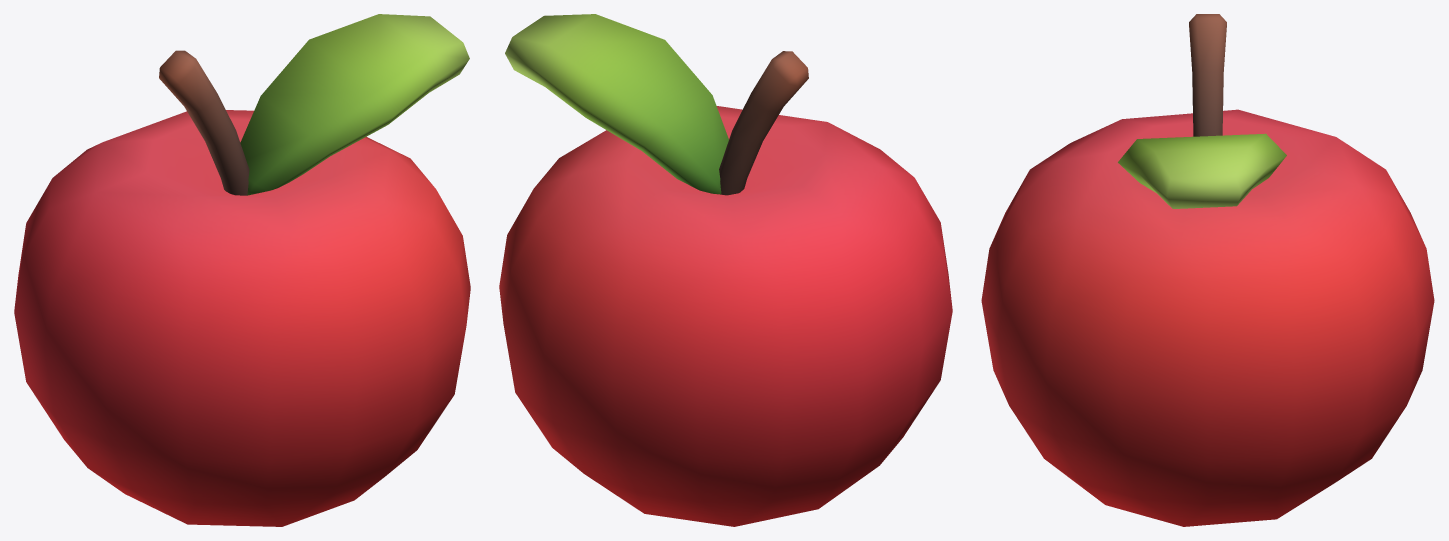
File: apple_001.glb
The picture shows the model from 3 angles, left to right: view 1: azimuth 30°, elevation 25°; view 2: azimuth 150°, elevation 25°; view 3: azimuth 270°, elevation 25°; orthographic projection.
Parts seen in each view (by area): view 1: apple_001; view 2: apple_001; view 3: apple_001.
Part boxes in pixels (x1,y1,x2,y2): apple_001: (14,14,470,526); apple_001: (499,14,952,526); apple_001: (981,14,1434,526).
Bounding box in the file's own units: 0.7826 × 0.8415 × 0.7664.
Materials: 1 (1 with a texture image).
